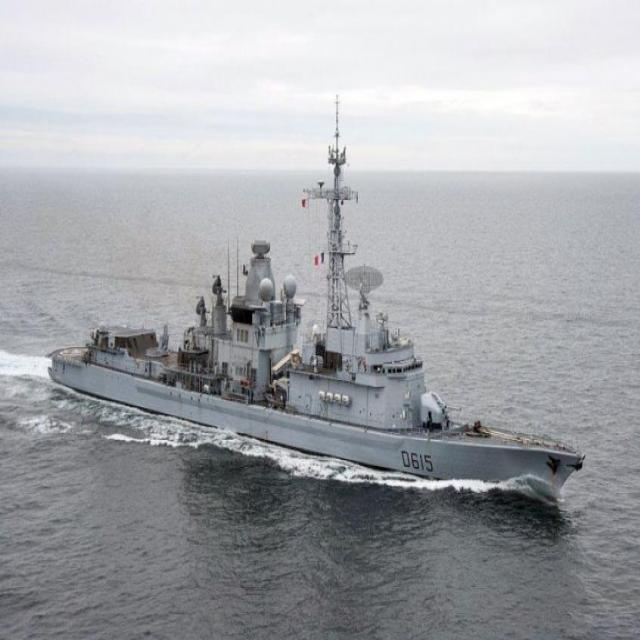navalvessels: (46, 105, 591, 509)
